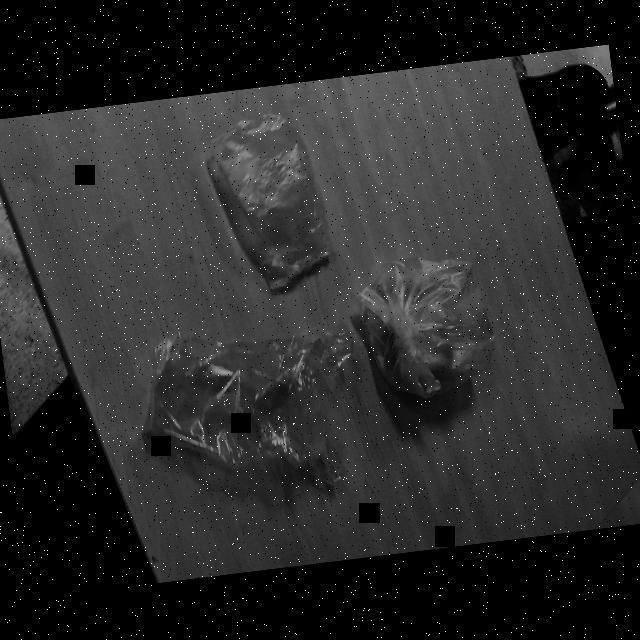plastic_bag: (352, 234, 518, 408)
scrap_plastic: (125, 315, 374, 510), (208, 95, 344, 302)
